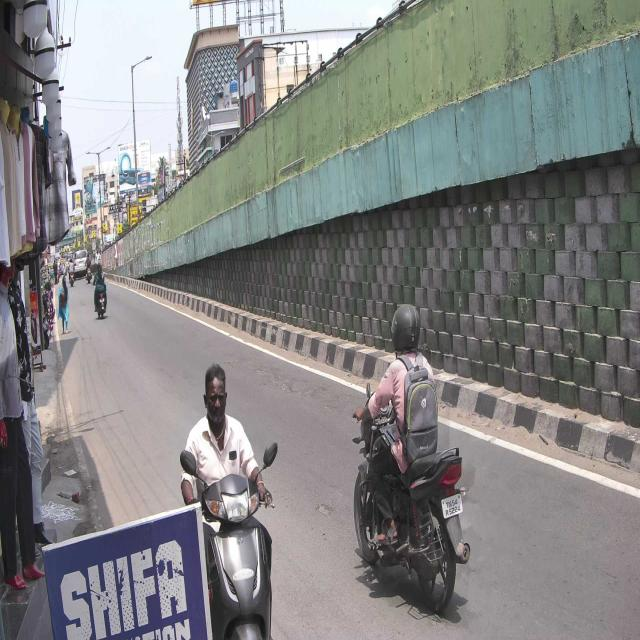single_rider: (353, 303, 470, 612), (182, 363, 276, 640)
